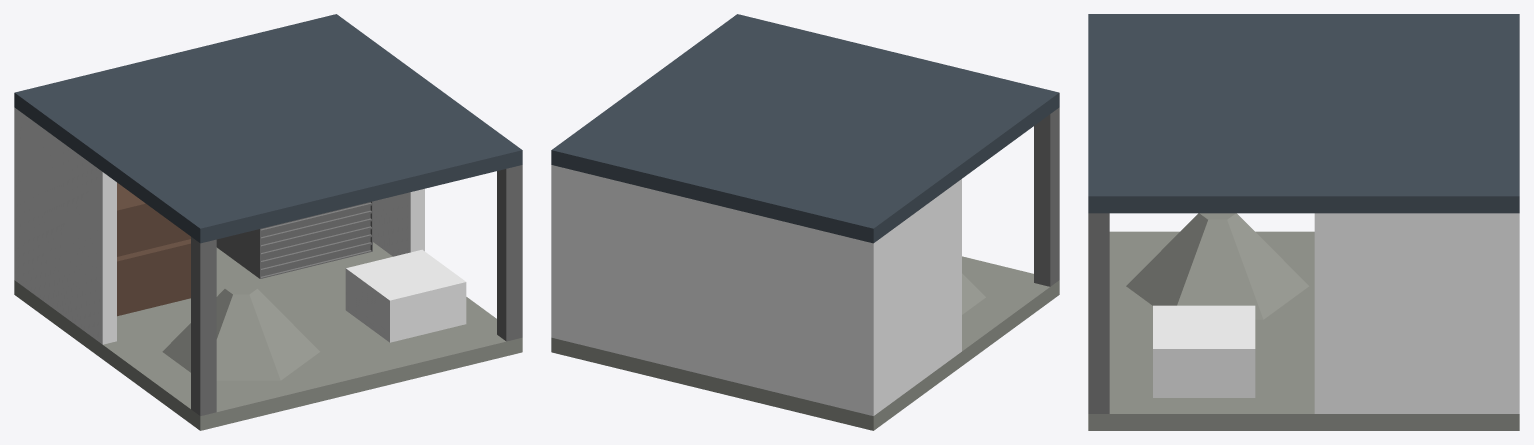
Rendered from site_bunker_close.fbx.
3 renders of one model, left to right at view 1: azimuth 30°, elevation 25°; view 2: azimuth 150°, elevation 25°; view 3: azimuth 270°, elevation 25°, orthographic. The views are drawn at different scales.
Parts seen in each view (by area): view 1: a1059/0/site_bunker_close; view 2: a1059/0/site_bunker_close; view 3: a1059/0/site_bunker_close.
Part boxes in pixels (left/top/right/bottom): a1059/0/site_bunker_close: left=14, top=14, right=522, bottom=430; a1059/0/site_bunker_close: left=551, top=14, right=1059, bottom=430; a1059/0/site_bunker_close: left=1088, top=14, right=1519, bottom=430.
Size of the model in its own units: 8 by 4.8 by 8.
